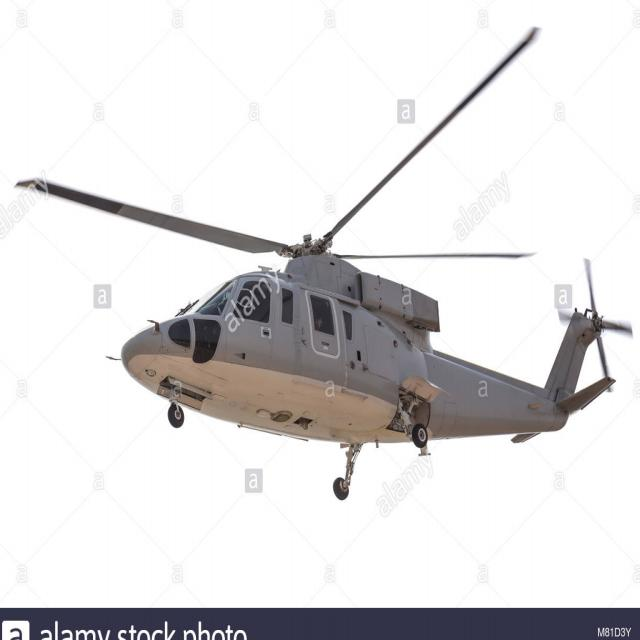helicopter: (12, 30, 640, 500)
